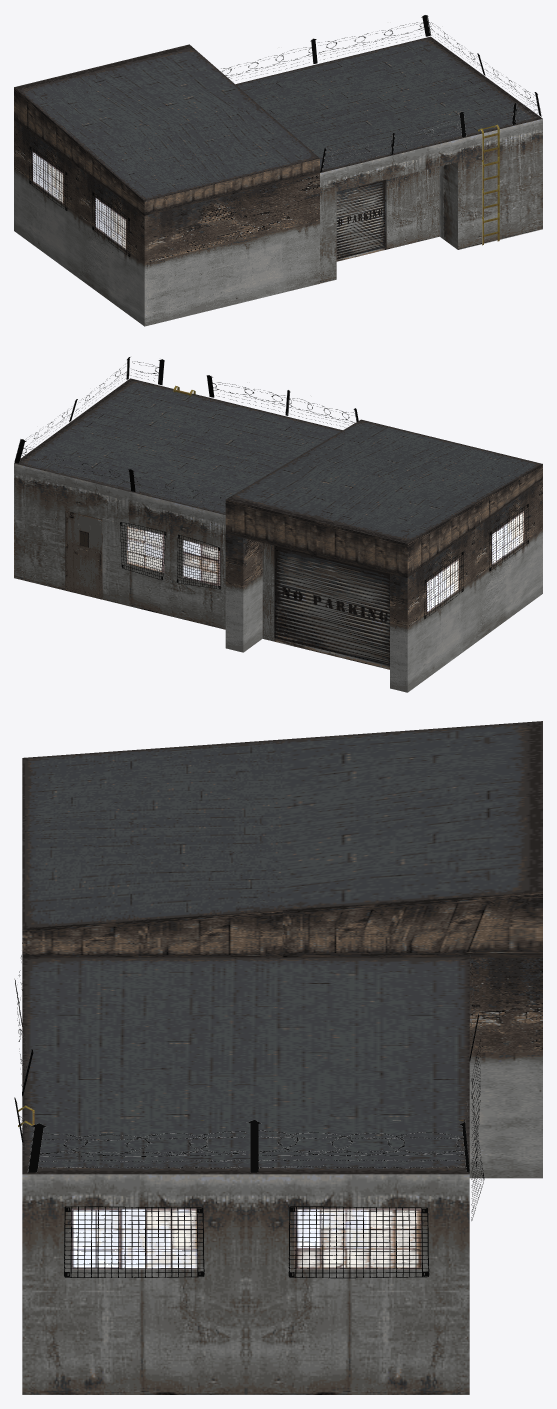
File: building.glb
3 renders of one model, top to bottom at view 1: azimuth 30°, elevation 25°; view 2: azimuth 150°, elevation 25°; view 3: azimuth 270°, elevation 25°, orthographic. The views are drawn at different scales.
Parts seen in each view (by area): view 1: old_shelter, wires, ext_ladder, window grilles.003, window grilles; view 2: old_shelter, wires, window grilles.002, window grilles.001, window grilles.003, window grilles; view 3: old_shelter, wires, window grilles.005, window grilles.004.
Boxes of the visible parts, x1,y1,x2,y2 form: old_shelter: [14, 36, 542, 326]; wires: [221, 15, 541, 171]; ext_ladder: [478, 124, 499, 245]; window grilles.003: [29, 146, 67, 210]; window grilles: [92, 192, 130, 256]; old_shelter: [14, 378, 542, 692]; wires: [14, 357, 358, 511]; window grilles.002: [120, 522, 166, 580]; window grilles.001: [176, 534, 220, 589]; window grilles.003: [424, 551, 463, 619]; window grilles: [489, 504, 528, 571]; old_shelter: [22, 721, 542, 1394]; wires: [14, 911, 478, 1172]; window grilles.005: [288, 1206, 429, 1278]; window grilles.004: [64, 1206, 204, 1277].
Size of the model in its own units: 12.34 by 4.22 by 7.06.
2 materials, 2 textured.
